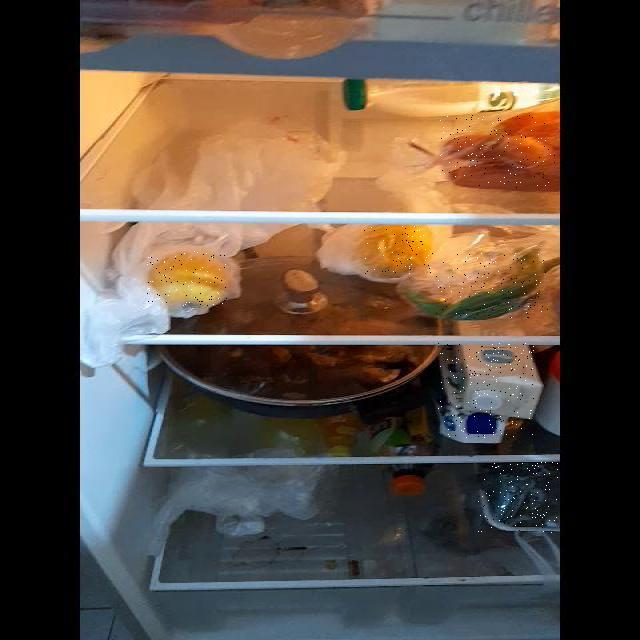broccoli: (478, 462, 558, 533)
carrot: (440, 115, 559, 188)
green chilies: (436, 253, 549, 318)
lemon: (147, 251, 228, 306), (364, 226, 433, 275)
milk: (438, 343, 534, 438)
